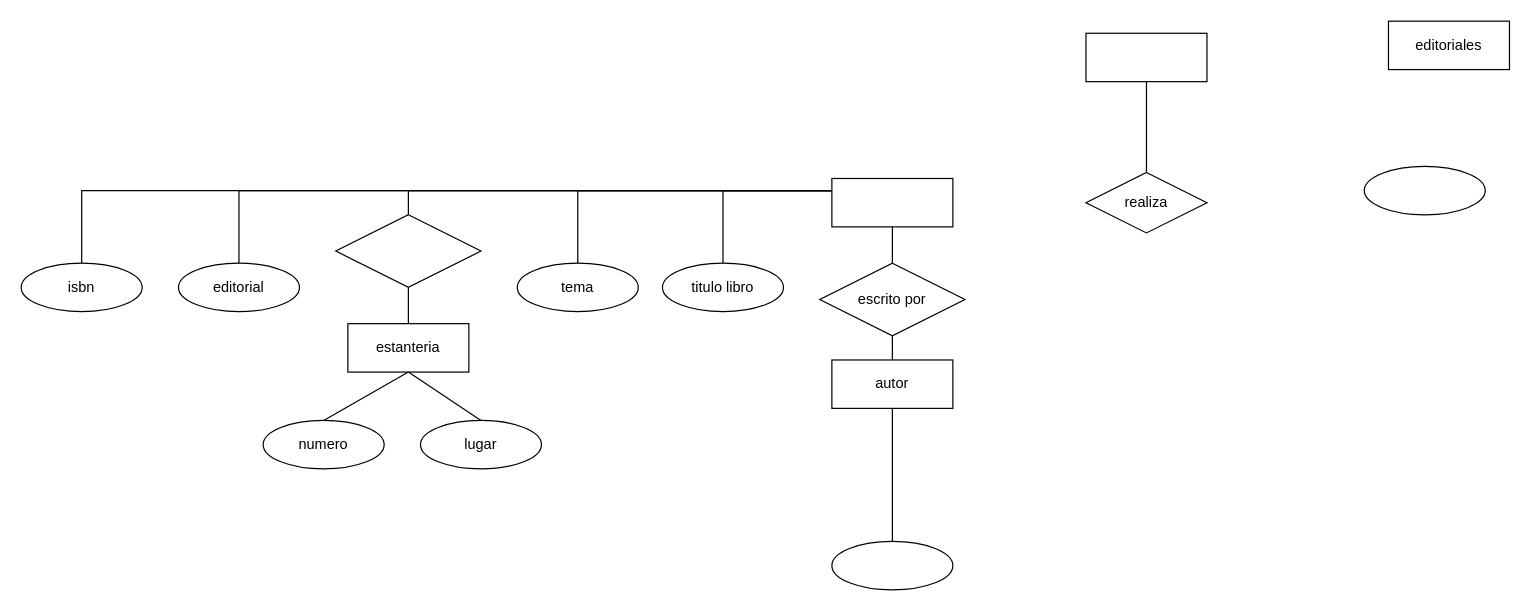
The diagram is 1531 pixels wide and 611 high, and some of its shapes have lost their labels. Here are the shapes that lost their labels. From the top down, the centre of each, then its label:
At point (1146, 57): "empleados".
At point (892, 202): "libros".
At point (1424, 190): "direccion".
At point (408, 250): "tienen".
At point (892, 565): "nacionalidad".
